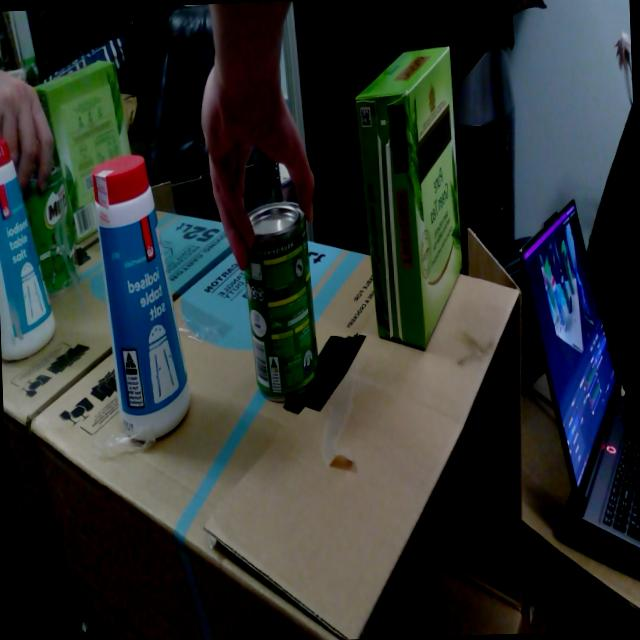nestle_milo_tin: (244, 201, 318, 400)
twinings_greentea_box: (355, 47, 462, 347)
woolworths_salt_bottle: (92, 155, 189, 441)
